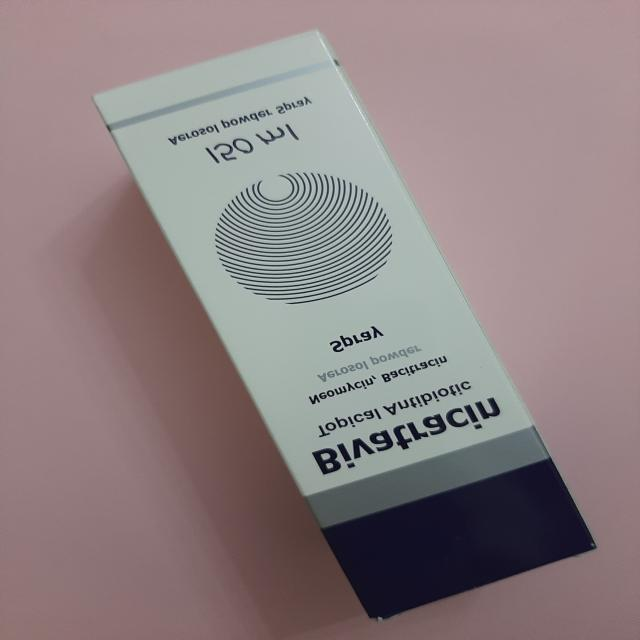medicine_packaging: (78, 26, 600, 627)
